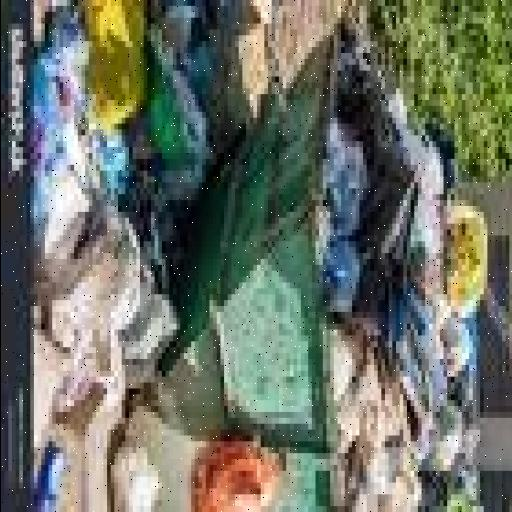poubelle_pleine: (125, 26, 461, 512)
